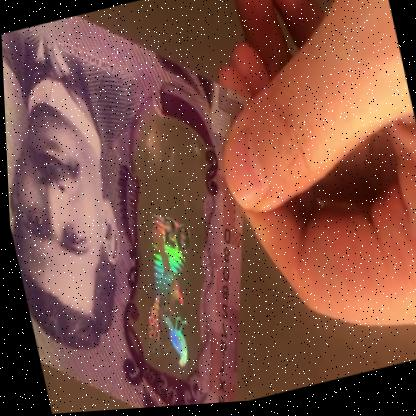50F: (102, 135, 221, 382)
